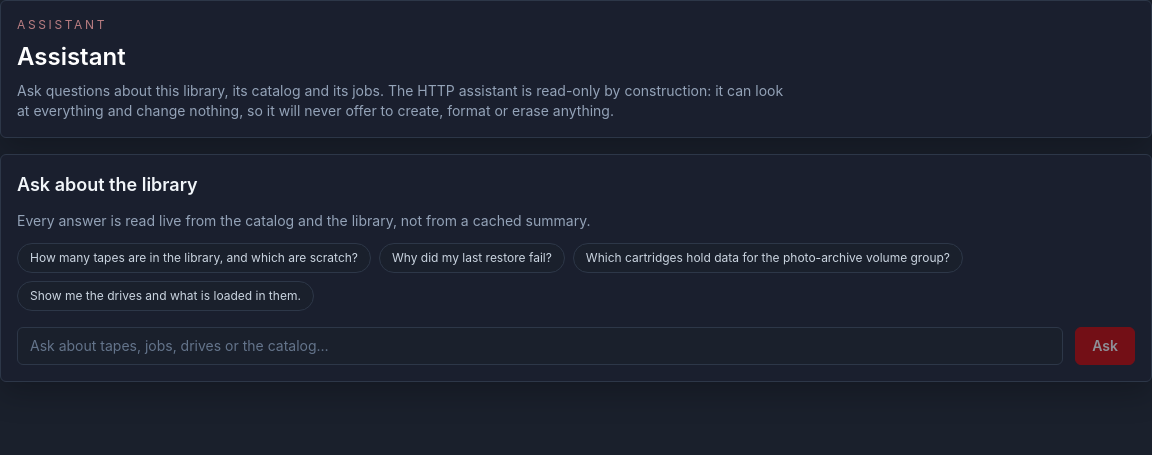
Test: Assistant › sends the question and renders the reply with a dim tool trace
The width and height of the screenshot is (1152, 455).
Type "how many tapes are in photo-archive?" into the field named "Question" at (540, 346), box [17,327,1063,365]
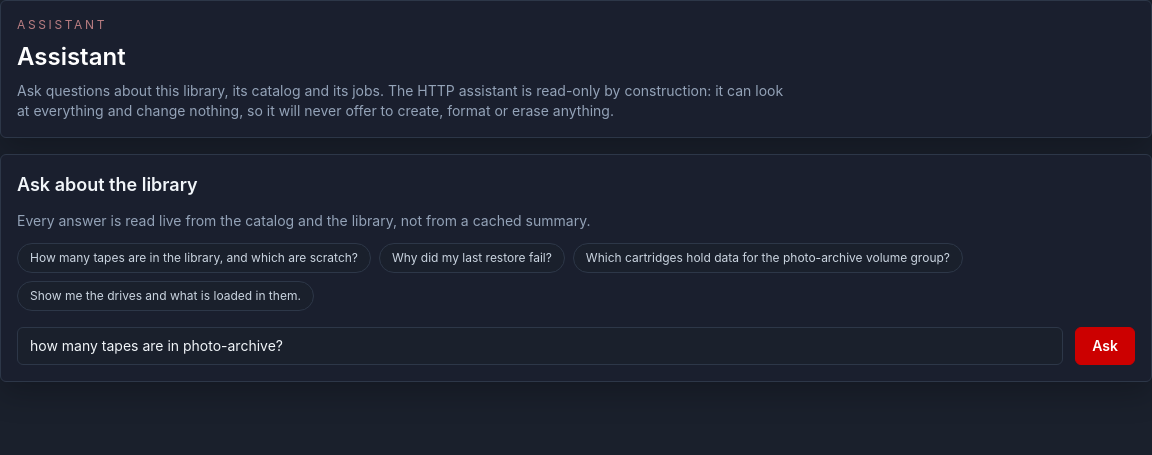
Click the button "Ask" at (1105, 346), box [1075,327,1135,365]
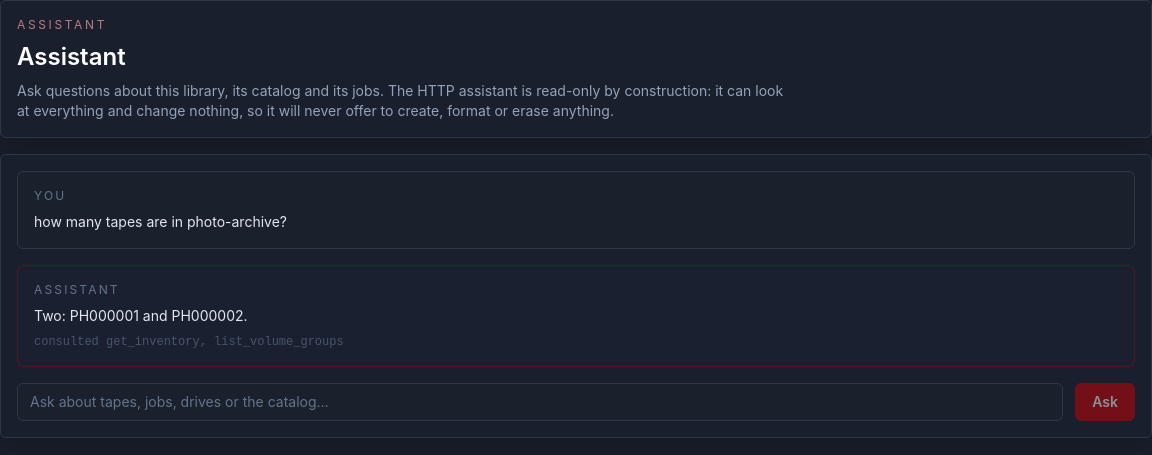
Result: the text "Two: PH000001 and PH000002." is shown at [34,307,248,324]
Result: the text "consulted get_inventory, list_volume_groups" is shown at [34,335,344,349]
Result: the text "how many tapes are in photo-archive?" is shown at [34,213,287,230]
